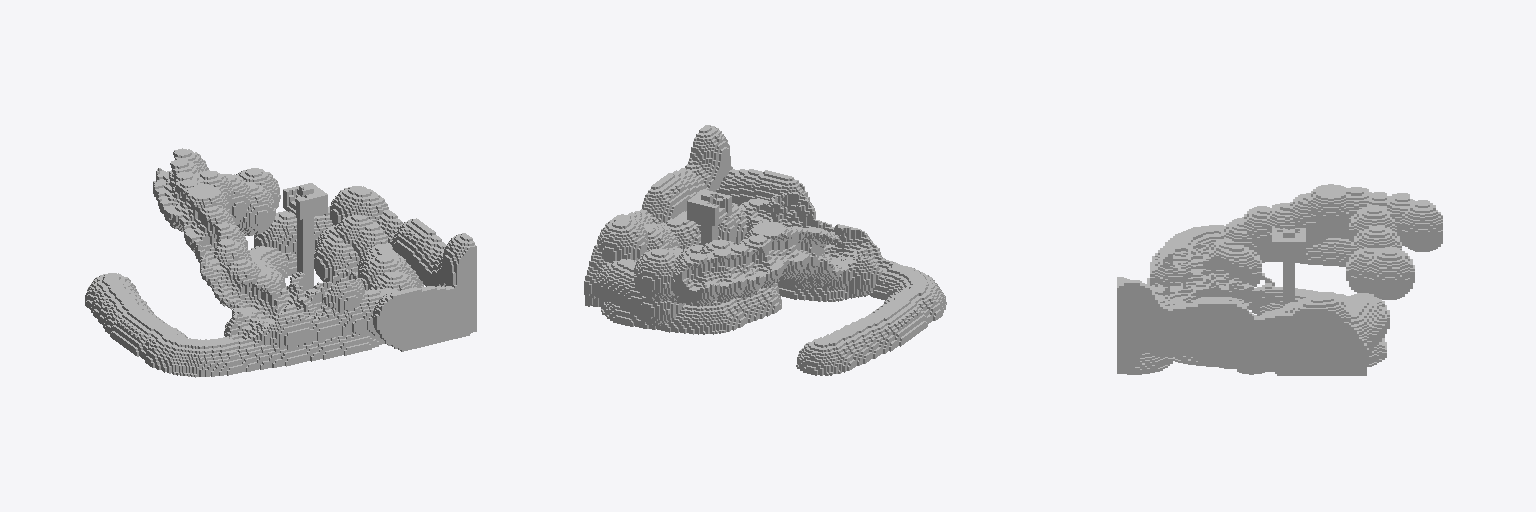
File: level1.obj
The picture shows the model from 3 angles: view 1: azimuth 30°, elevation 25°; view 2: azimuth 150°, elevation 25°; view 3: azimuth 270°, elevation 25°; orthographic projection.
Visible parts, largest first — view 1: object 1; view 2: object 1; view 3: object 1.
Boxes of the visible parts, x1=… form: object 1: x1=85, y1=148, x2=476, y2=377; object 1: x1=584, y1=125, x2=946, y2=375; object 1: x1=1117, y1=184, x2=1442, y2=375.
Size of the model in its own units: 12.6 by 4.5 by 12.8.